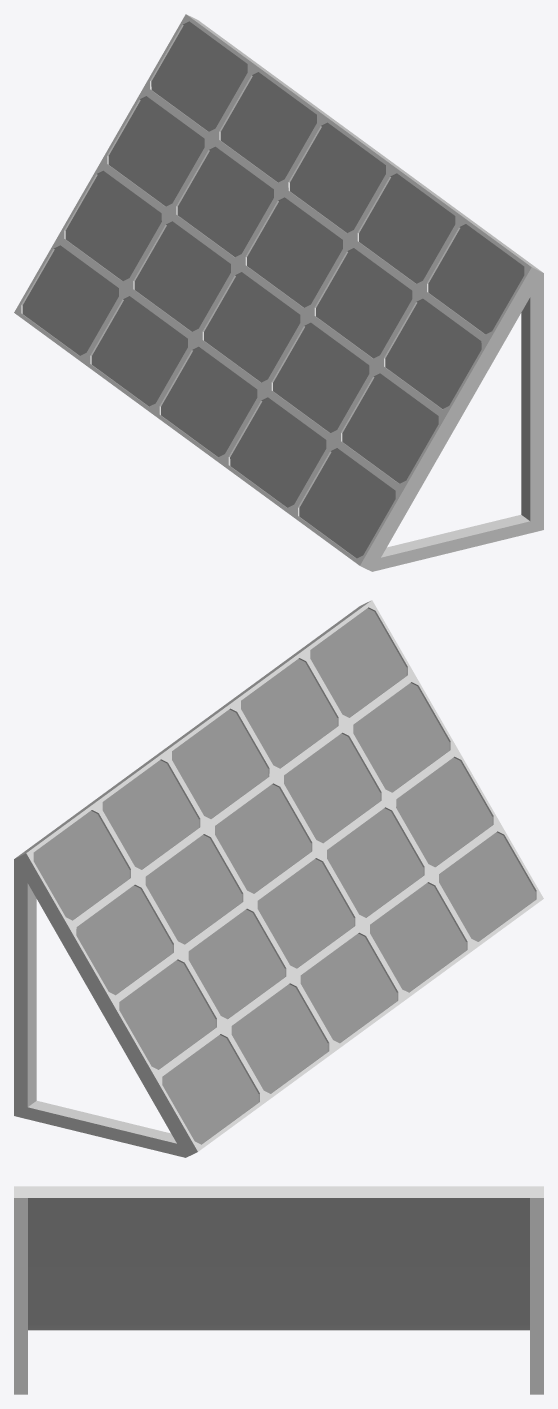
File: Building_Deco_07.FBX
3 views of the same model, one above another, from view 1: azimuth 30°, elevation 25°; view 2: azimuth 150°, elevation 25°; view 3: azimuth 270°, elevation 25° (orthographic). The views are drawn at different scales.
Parts seen in each view (by area): view 1: Building_Deco_07_LOD0; view 2: Building_Deco_07_LOD0; view 3: Building_Deco_07_LOD0.
Part boxes in pixels (x1,y1,x2,y2): Building_Deco_07_LOD0: (14,14,543,571); Building_Deco_07_LOD0: (14,600,543,1157); Building_Deco_07_LOD0: (14,1186,543,1394).
Size of what is drawn, in the model's own units: 55.31 by 76.3 by 180.
